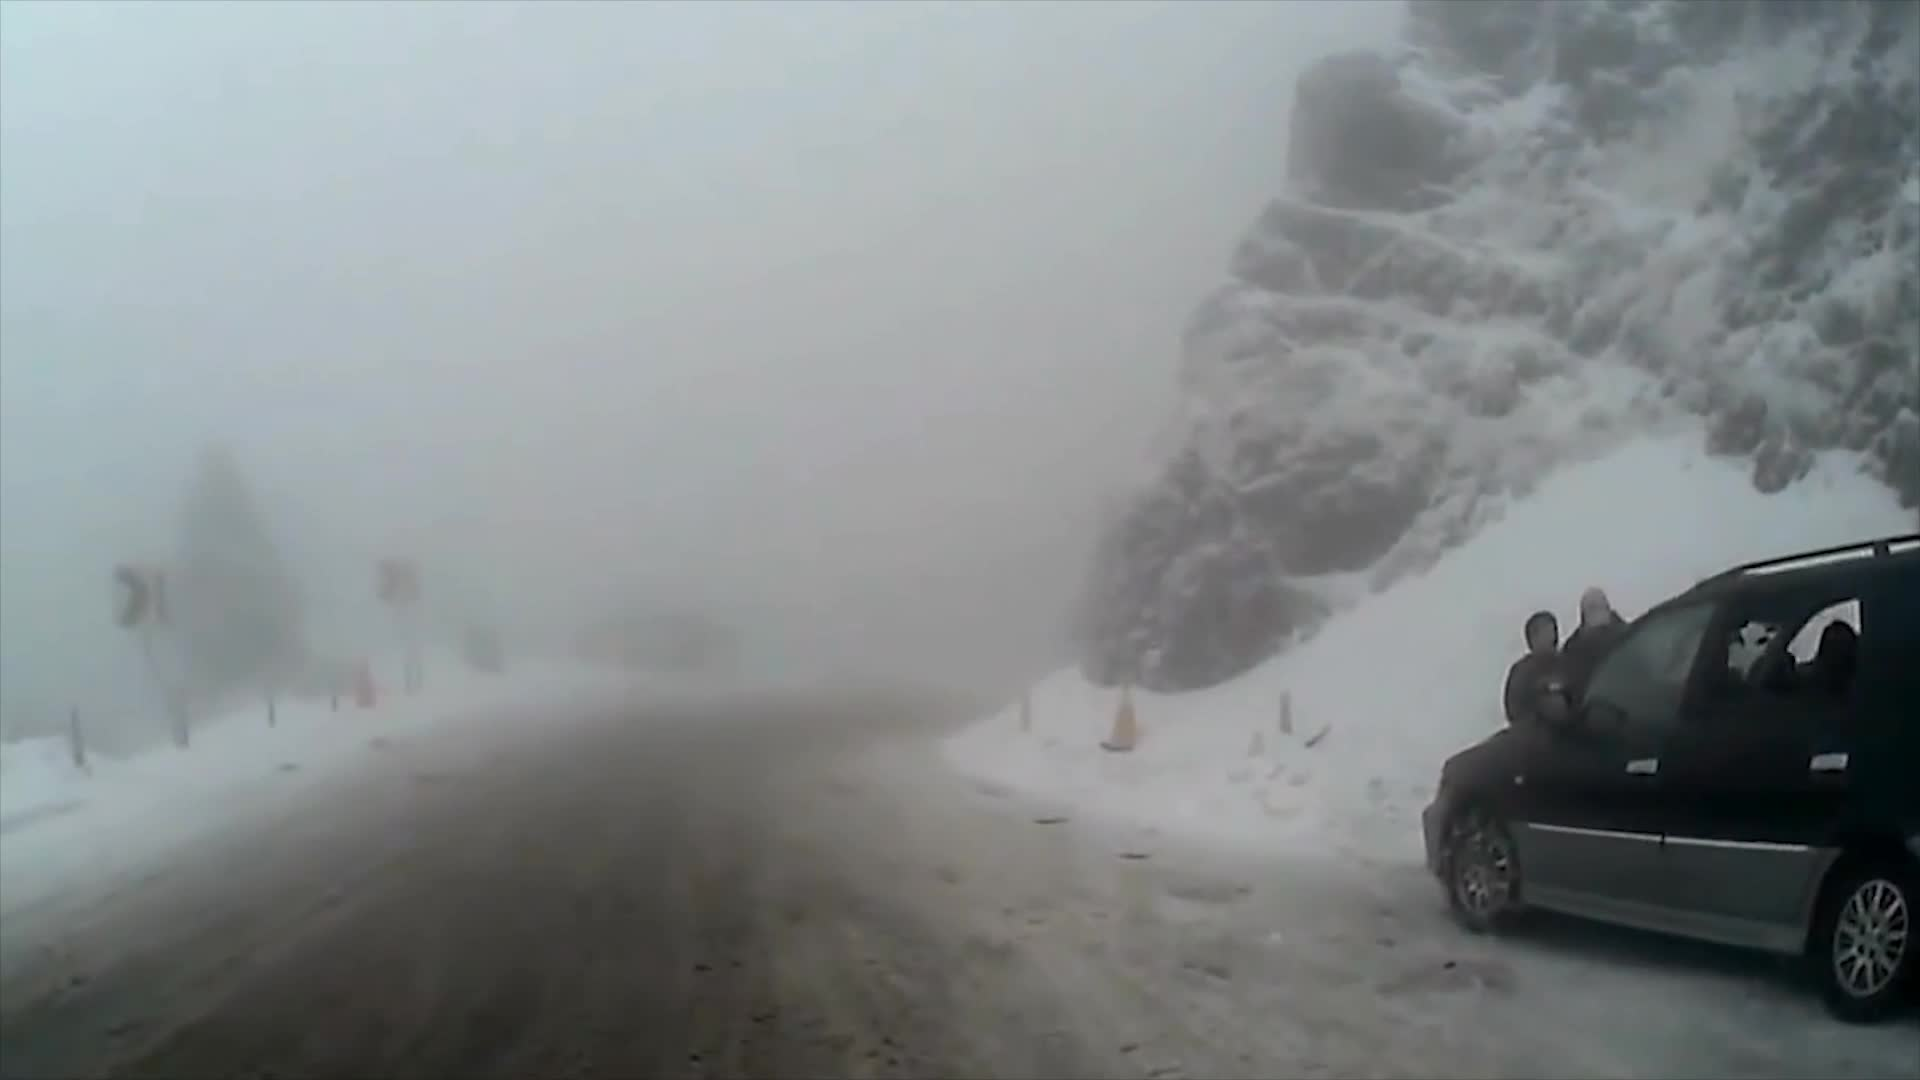pedestrian: (1503, 604, 1585, 887), (1570, 586, 1655, 849)
vehicle: (1418, 528, 1920, 1023)
